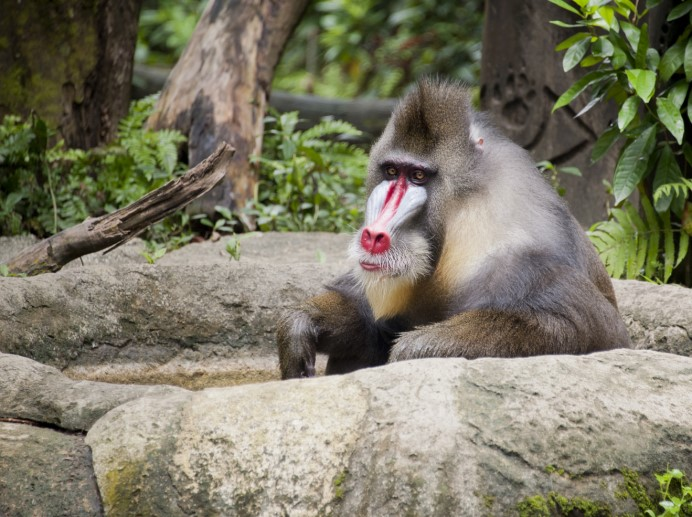Mandrill: (352, 94, 620, 356)
